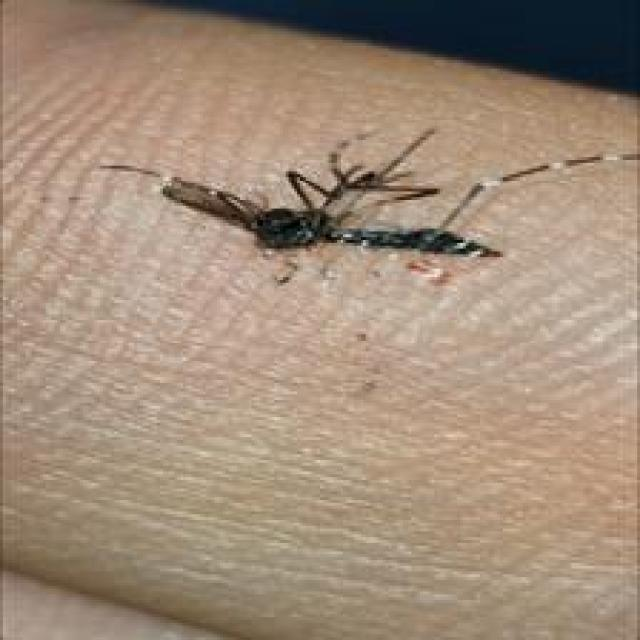Aedes albopictus: (100, 123, 640, 274)
